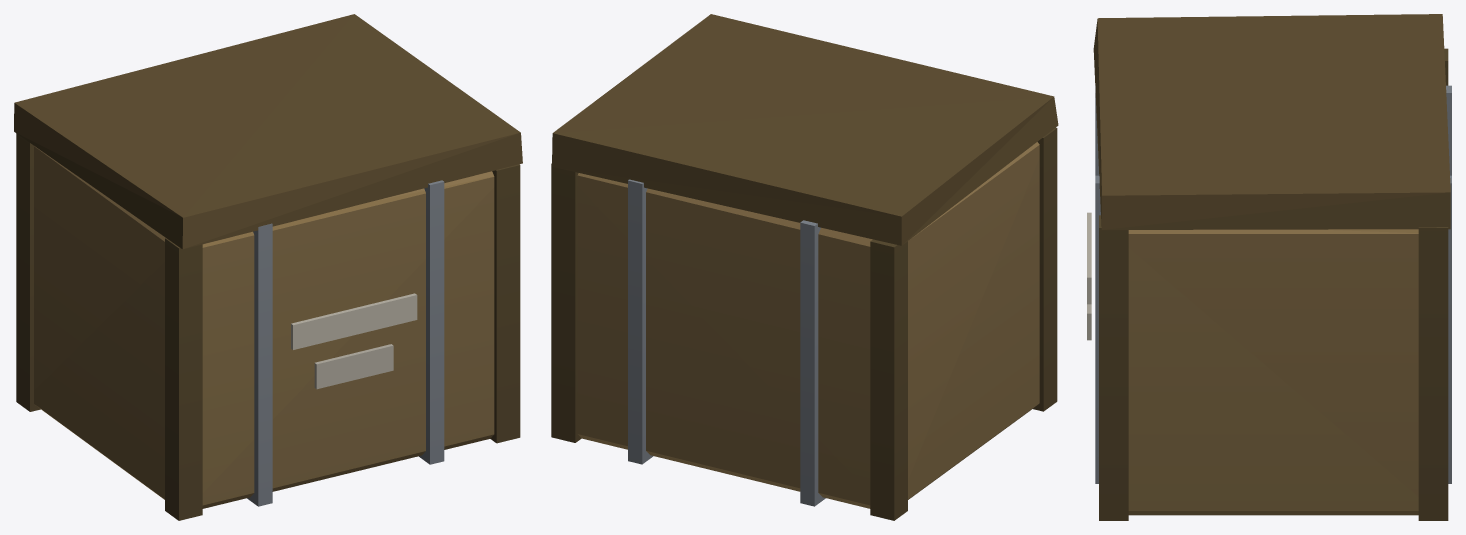
The model's file is supply-crate.glb.
The picture shows the model from 3 angles, left to right: view 1: azimuth 30°, elevation 25°; view 2: azimuth 150°, elevation 25°; view 3: azimuth 270°, elevation 25°; orthographic projection. The views are drawn at different scales.
Visible parts, largest first — view 1: supply_crate; view 2: supply_crate; view 3: supply_crate.
Part boxes in pixels (left/top/right/bottom): supply_crate: left=14, top=14, right=522, bottom=520; supply_crate: left=551, top=14, right=1058, bottom=520; supply_crate: left=1087, top=14, right=1451, bottom=520.
Bounding box in the file's own units: 0.7341 × 0.6167 × 0.616.
